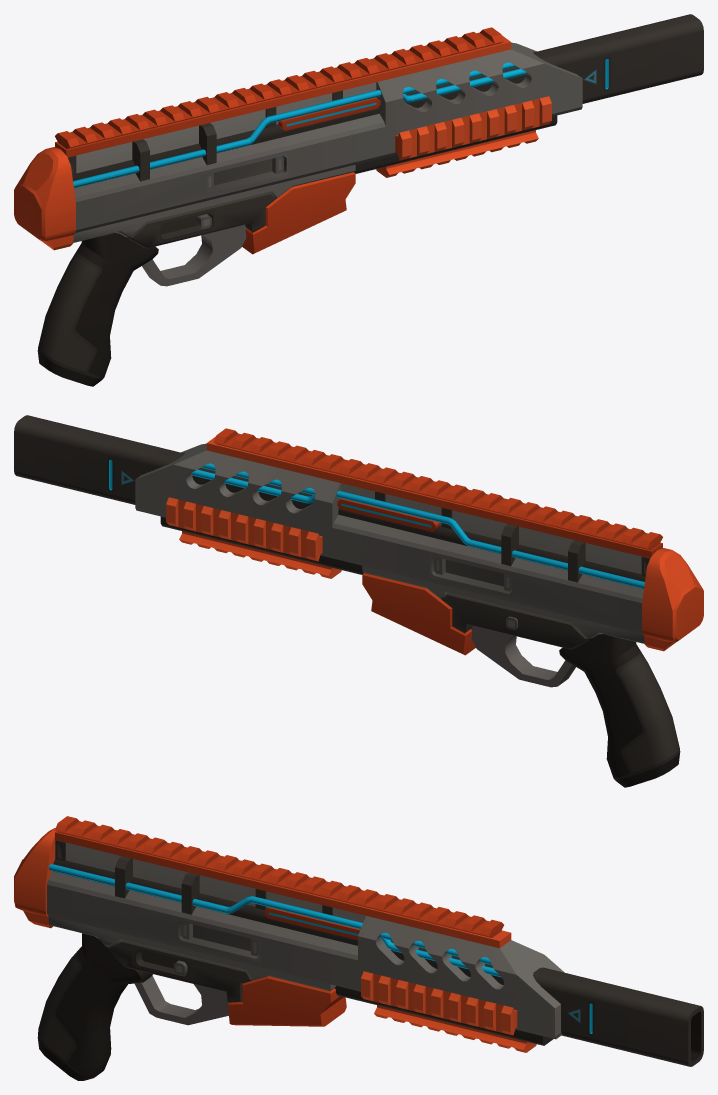
3 renders of one model, top to bottom at view 1: azimuth 30°, elevation 25°; view 2: azimuth 150°, elevation 25°; view 3: azimuth 330°, elevation 25°, orthographic.
Parts seen in each view (by area): view 1: AR1_Base; view 2: AR1_Base; view 3: AR1_Base.
Part boxes in pixels (bbox=[...]): AR1_Base: bbox=[14, 14, 703, 386]; AR1_Base: bbox=[14, 415, 703, 787]; AR1_Base: bbox=[14, 816, 703, 1080].
Bounding box in the file's own units: 65.15 × 23.45 × 6.98.
